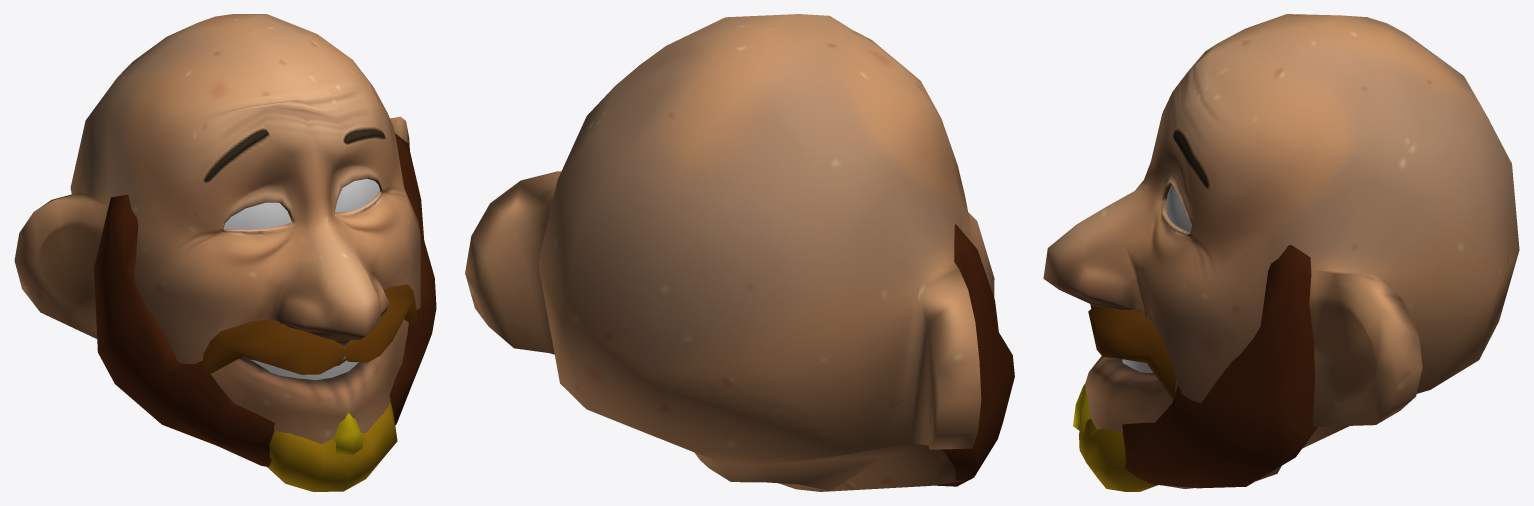
Rendered from E_pose11.fbx.
3 views of the same model, side by side, from view 1: azimuth 30°, elevation 25°; view 2: azimuth 150°, elevation 25°; view 3: azimuth 270°, elevation 25° (orthographic). The views are drawn at different scales.
Visible parts, largest first — view 1: HEAD, BEARD; view 2: HEAD, BEARD; view 3: HEAD, BEARD.
Boxes of the visible parts, box(x1,y1,x2,y2) form: HEAD: box(14, 14, 420, 443); BEARD: box(94, 133, 436, 491); HEAD: box(465, 14, 994, 491); BEARD: box(934, 224, 1014, 486); HEAD: box(1043, 14, 1519, 488); BEARD: box(1073, 245, 1317, 491).
Size of the model in its own units: 27.45 by 26.44 by 24.9.
